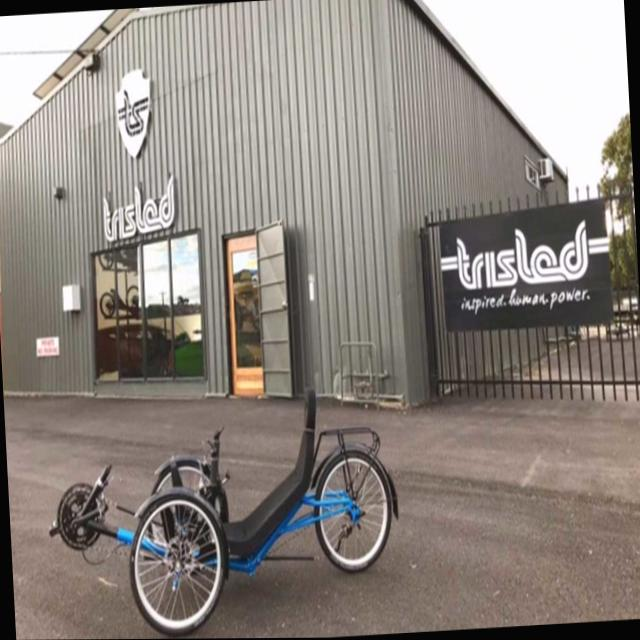recumbent-bike: (38, 381, 407, 640)
